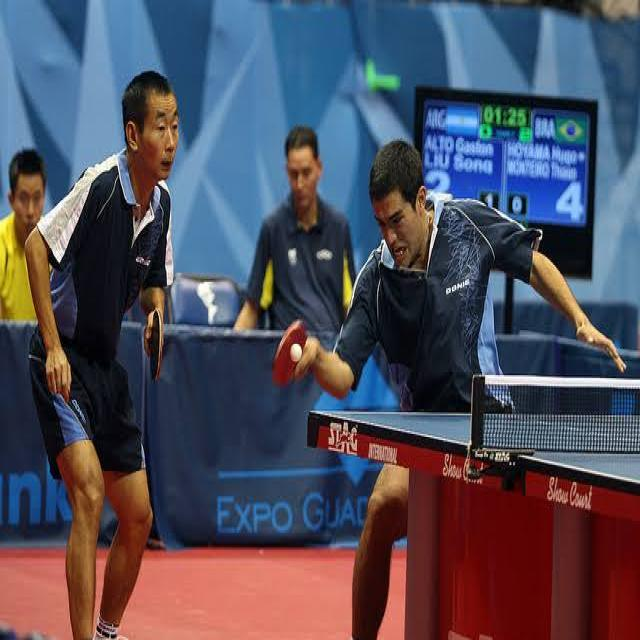TT Net: (471, 370, 639, 457)
TT Racket: (262, 308, 316, 393), (145, 308, 164, 388)
TT Table: (311, 411, 639, 485)
